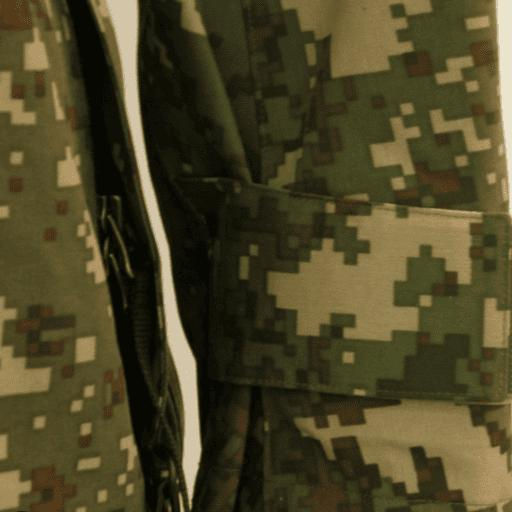korea army: (0, 5, 502, 510)
